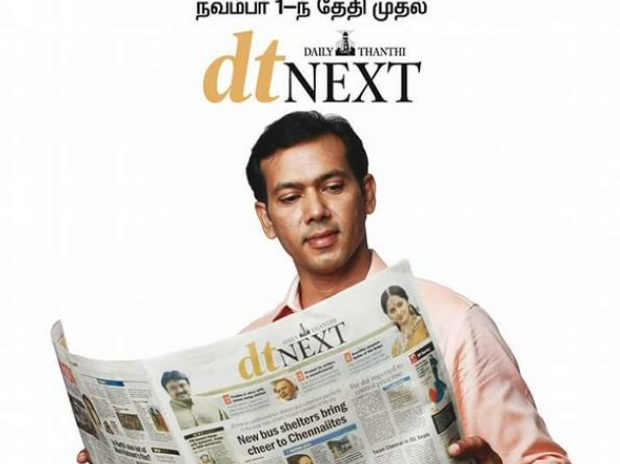news_paper: (33, 259, 503, 464)
